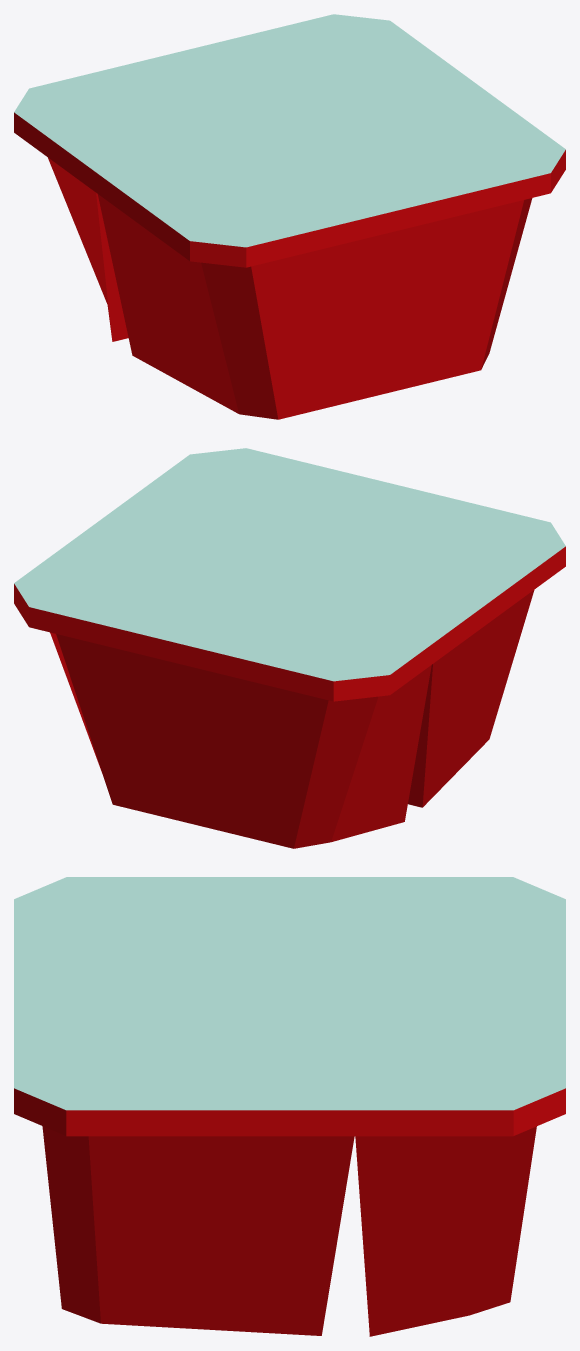
The model's file is gomorgen.glb.
The picture shows the model from 3 angles, top to bottom: view 1: azimuth 30°, elevation 25°; view 2: azimuth 150°, elevation 25°; view 3: azimuth 270°, elevation 25°; orthographic projection. The views are drawn at different scales.
Parts seen in each view (by area): view 1: Cube; view 2: Cube; view 3: Cube.
Boxes of the visible parts, x1=… form: Cube: x1=14, y1=14, x2=565, y2=419; Cube: x1=14, y1=448, x2=565, y2=848; Cube: x1=14, y1=877, x2=565, y2=1336.
Size of the model in its own units: 0.5998 by 0.3026 by 0.5998.
